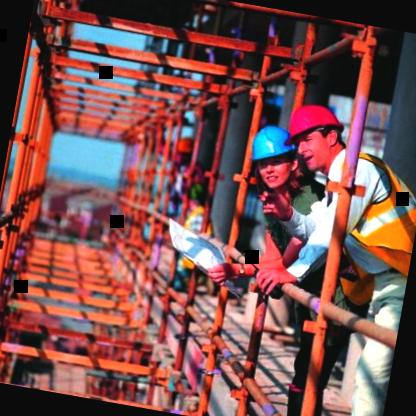helmet: (283, 101, 357, 187), (240, 121, 302, 201), (171, 133, 204, 167)
